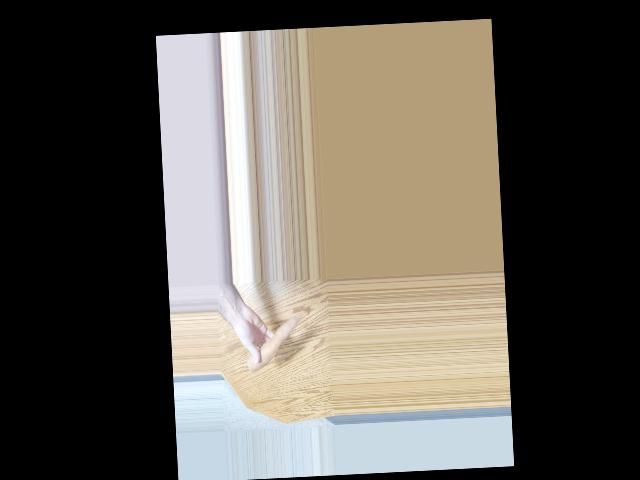sweet_potato: (244, 317, 300, 370)
